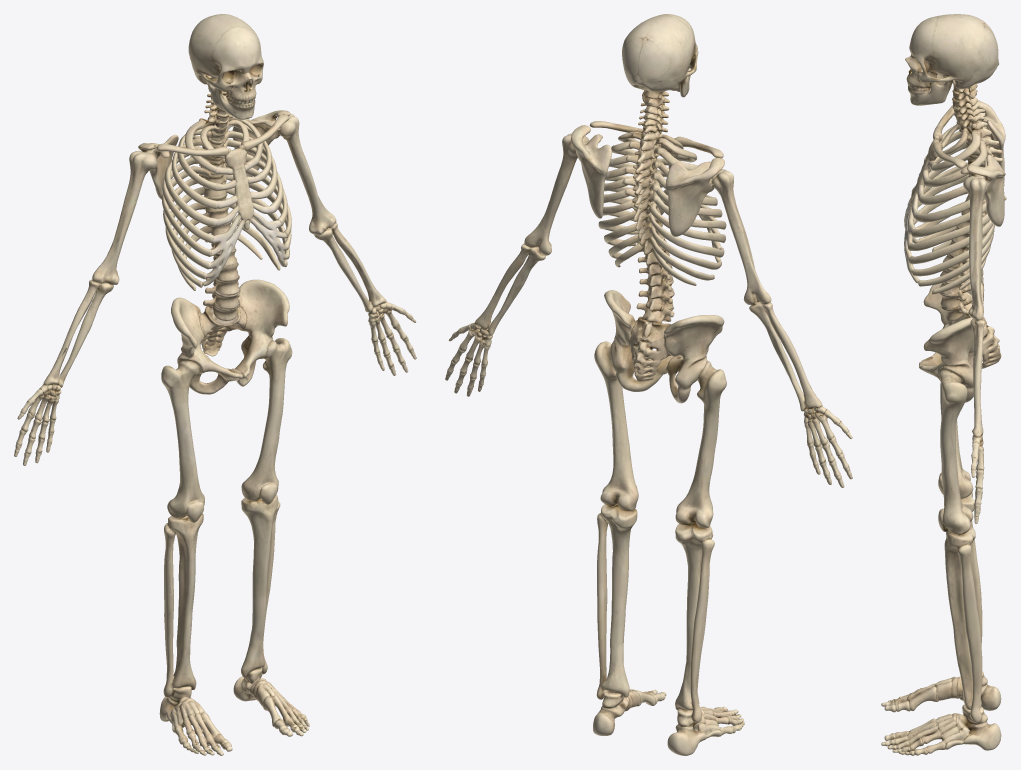
File: esqueleto.glb
3 views of the same model, side by side, from view 1: azimuth 30°, elevation 25°; view 2: azimuth 150°, elevation 25°; view 3: azimuth 270°, elevation 25° (orthographic).
Visible parts, largest first — view 1: human-skeleton; view 2: human-skeleton; view 3: human-skeleton.
Boxes of the visible parts, x1,y1,x2,y2 form: human-skeleton: (14, 14, 416, 755); human-skeleton: (445, 14, 852, 755); human-skeleton: (881, 14, 1006, 755).
Bounding box in the file's own units: 1.05 × 1.75 × 0.2794.
1 material, 1 textured.
